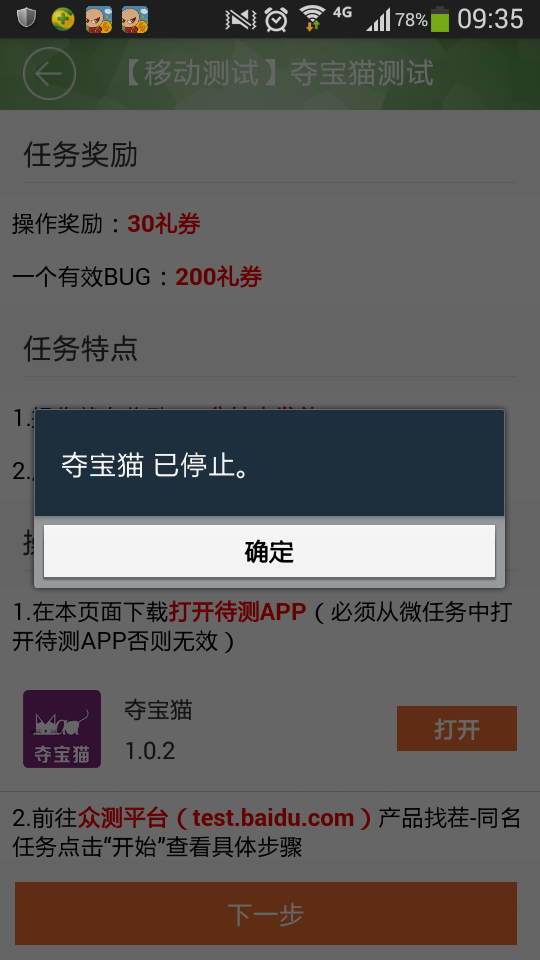alert: (21, 394, 520, 598)
button: (6, 871, 527, 952), (39, 518, 500, 586)
textview: (10, 121, 527, 379)
